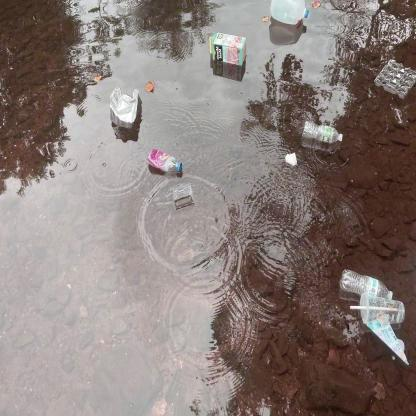Plastic: (338, 268, 407, 321), (364, 316, 410, 366), (373, 54, 416, 100), (108, 85, 140, 131), (300, 119, 346, 144), (147, 146, 183, 176), (269, 0, 310, 26)
Trash: (285, 152, 297, 171)
